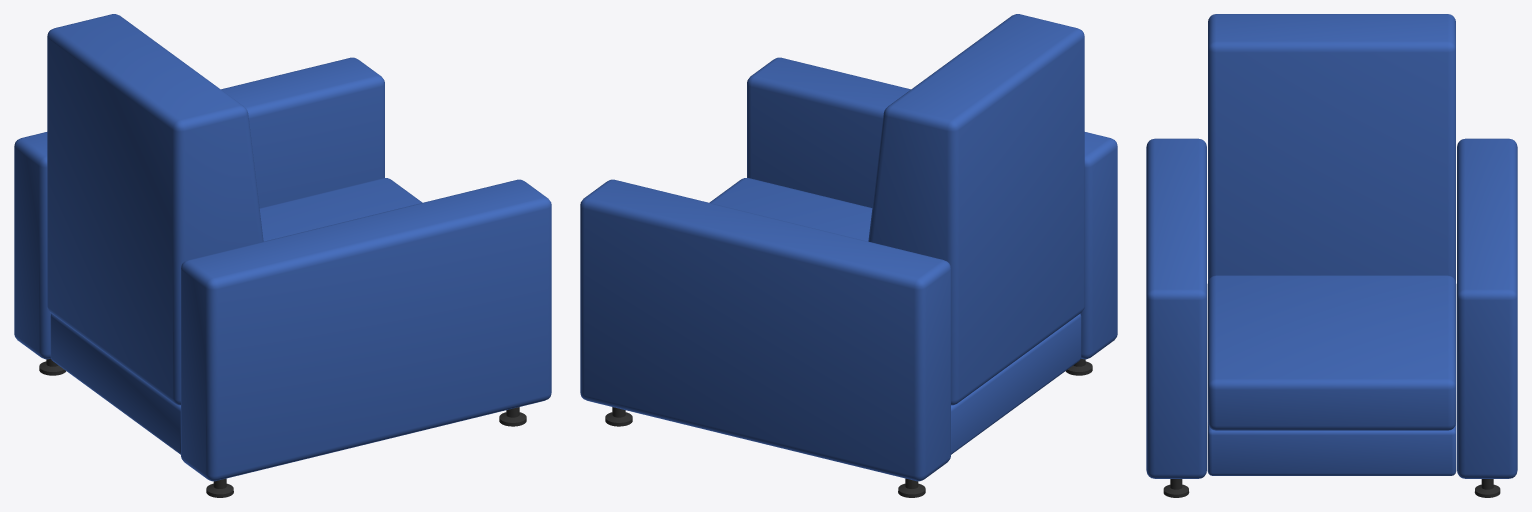
File: Sofa.fbx
The picture shows the model from 3 angles, left to right: view 1: azimuth 30°, elevation 25°; view 2: azimuth 150°, elevation 25°; view 3: azimuth 270°, elevation 25°; orthographic projection. The views are drawn at different scales.
Parts seen in each view (by area): view 1: Sofa; view 2: Sofa; view 3: Sofa.
Boxes of the visible parts, x1,y1,x2,y2 form: Sofa: (14,14,551,497); Sofa: (580,14,1117,497); Sofa: (1146,14,1517,497).
Bounding box in the file's own units: 200 × 200 × 200.
